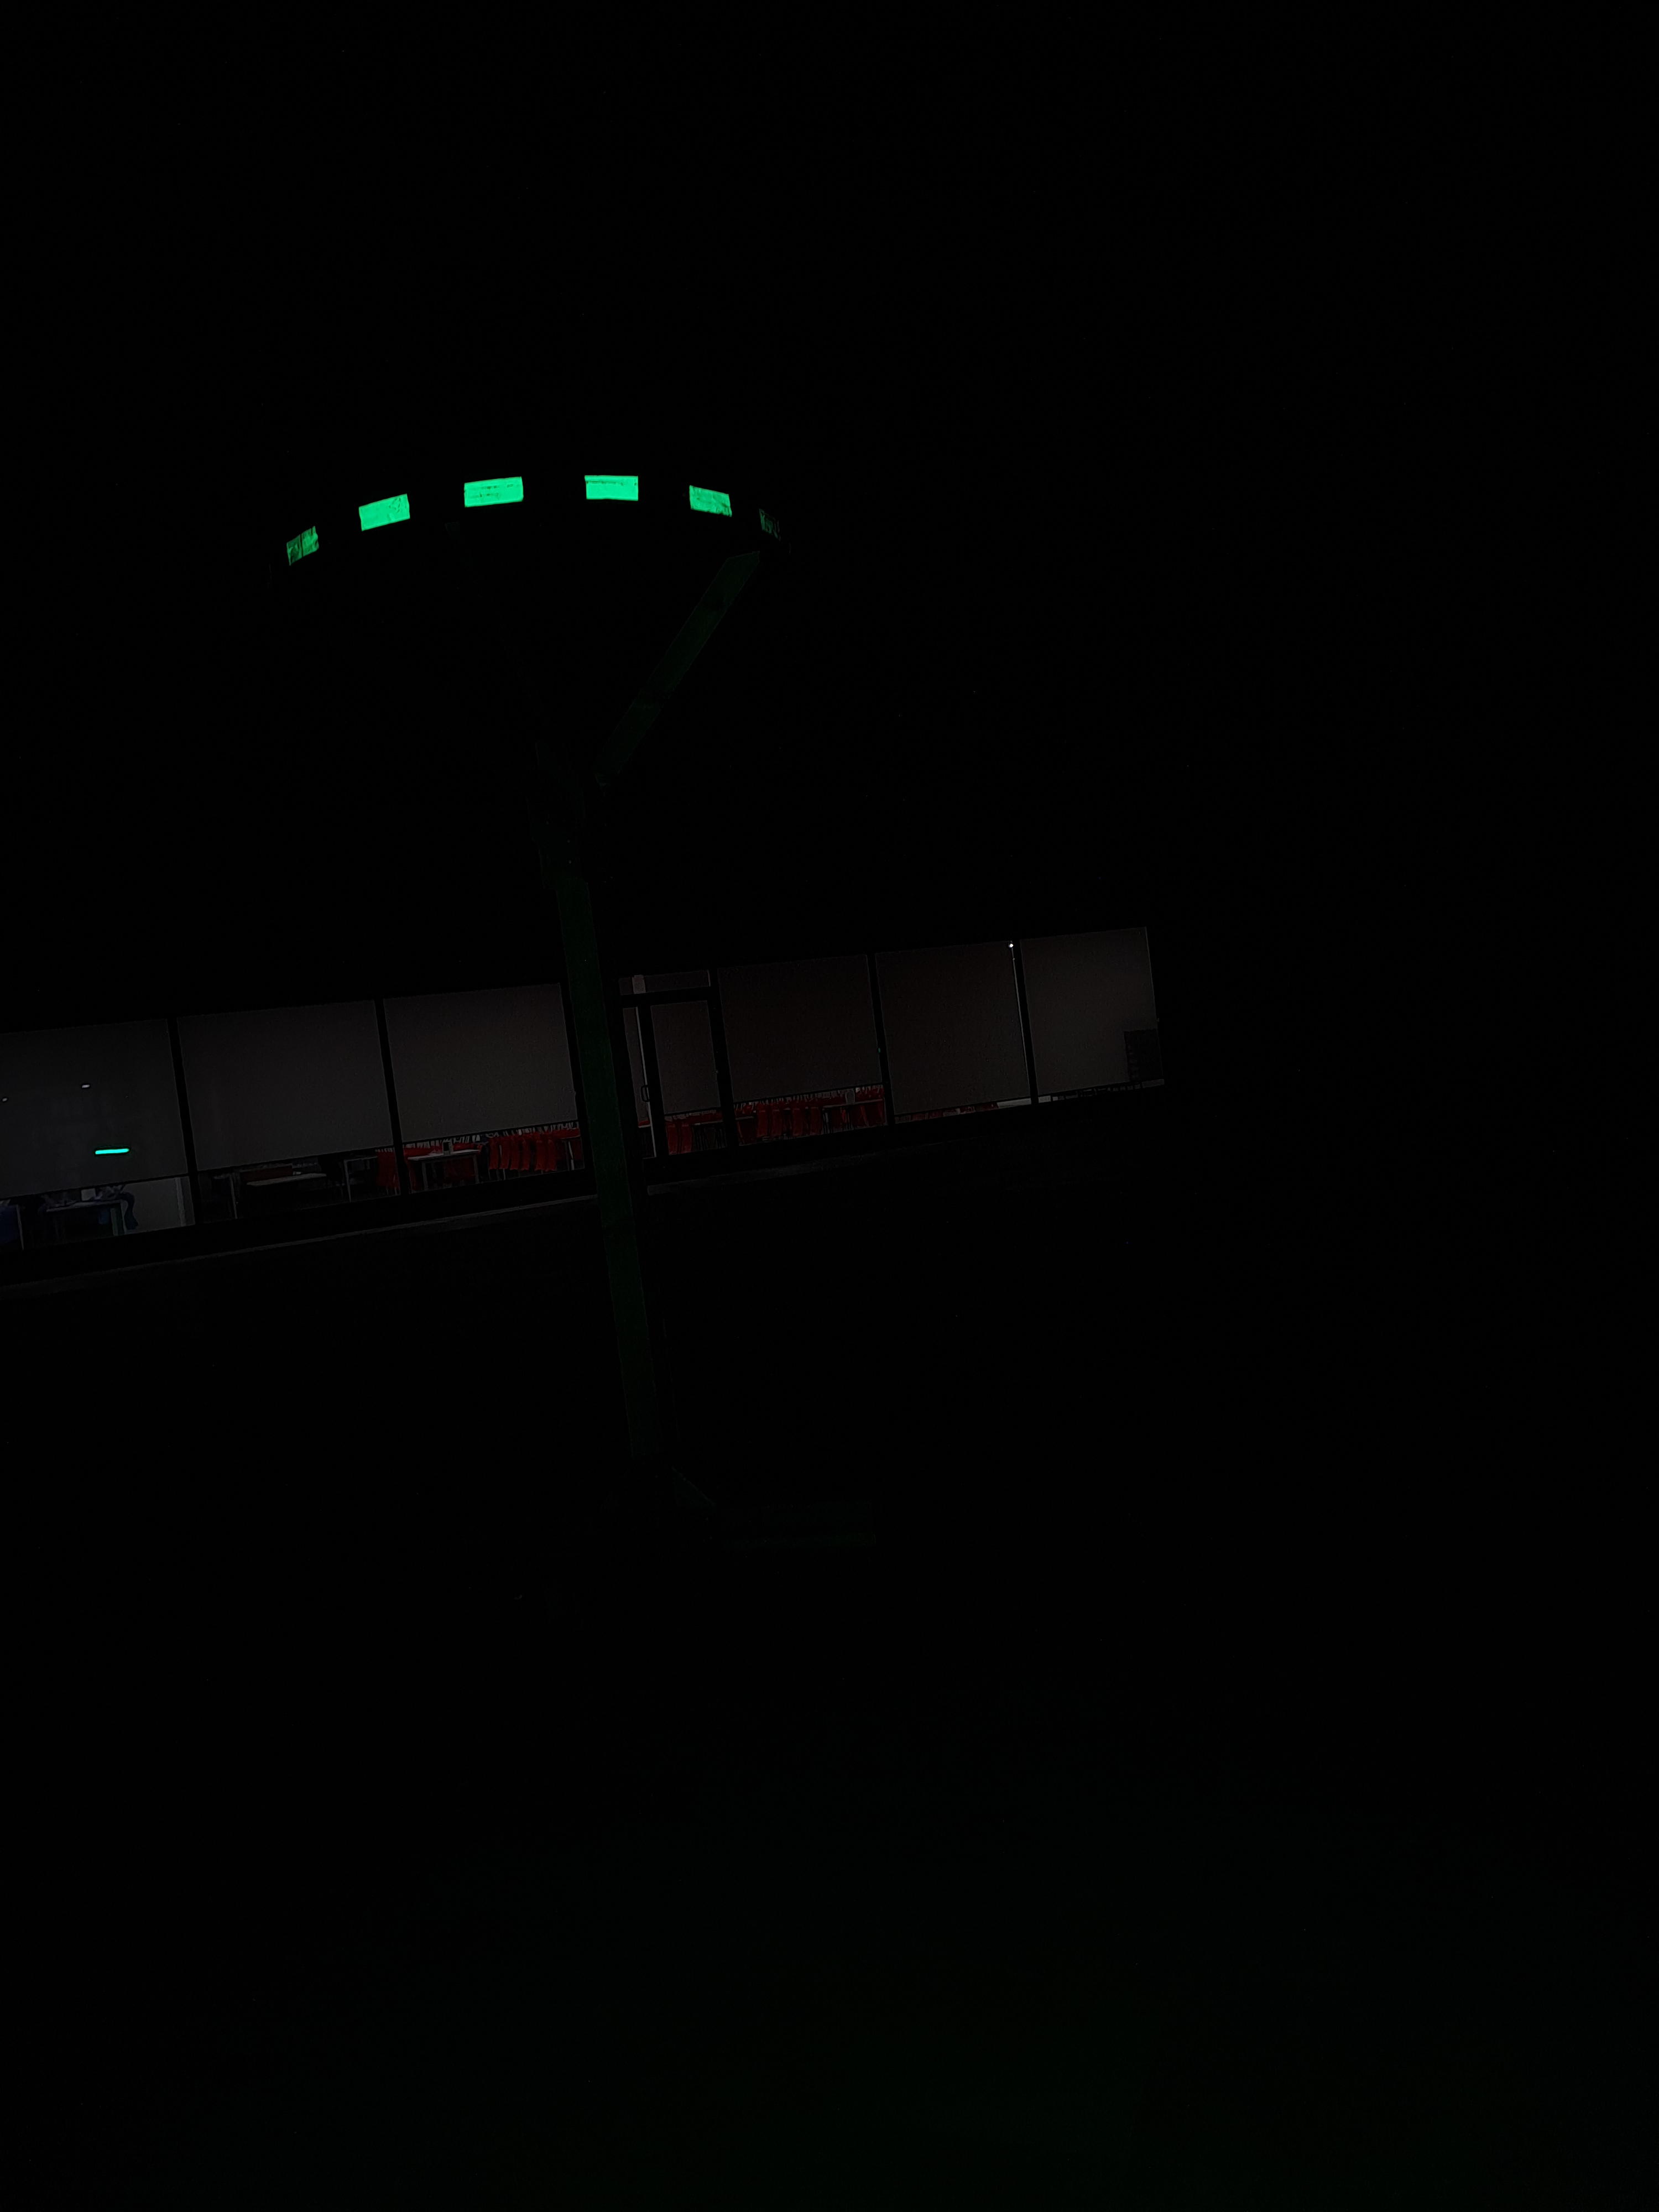hoop: (282, 469, 739, 573)
